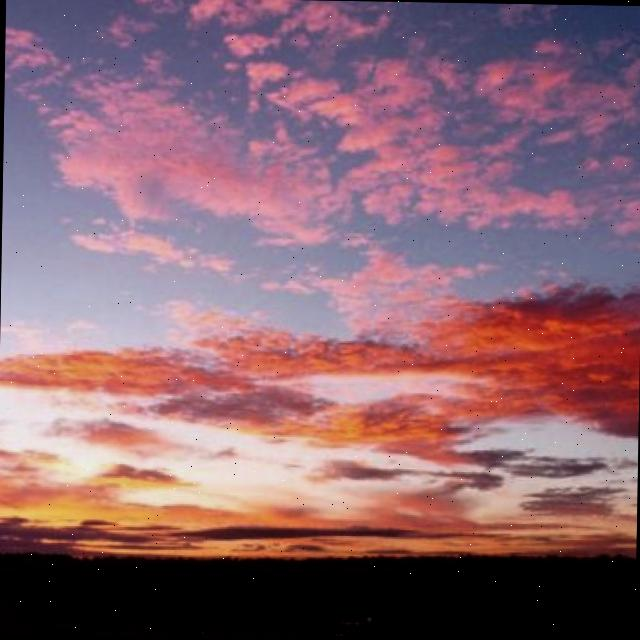As: (1, 27, 640, 433)
